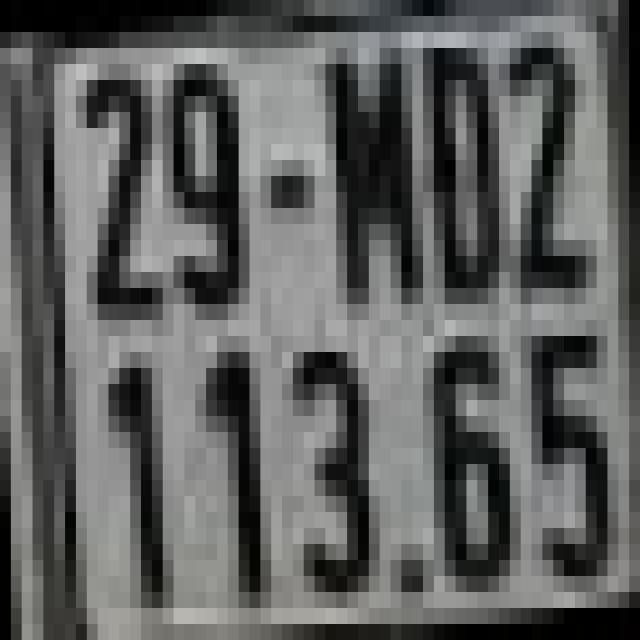1: (206, 352, 271, 608), (108, 368, 174, 608)
2: (509, 48, 596, 288), (76, 80, 163, 320)
3: (293, 352, 369, 592)
5: (532, 336, 608, 576)
6: (434, 336, 510, 576)
9: (174, 64, 238, 304)
D: (412, 32, 510, 304)
M: (325, 40, 423, 312)
